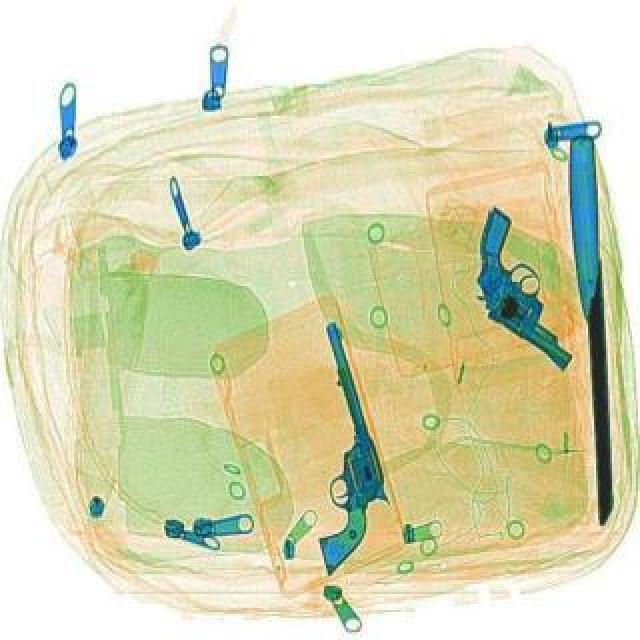gun: (252, 320, 410, 574), (430, 204, 622, 368)
knife: (566, 134, 610, 524)
